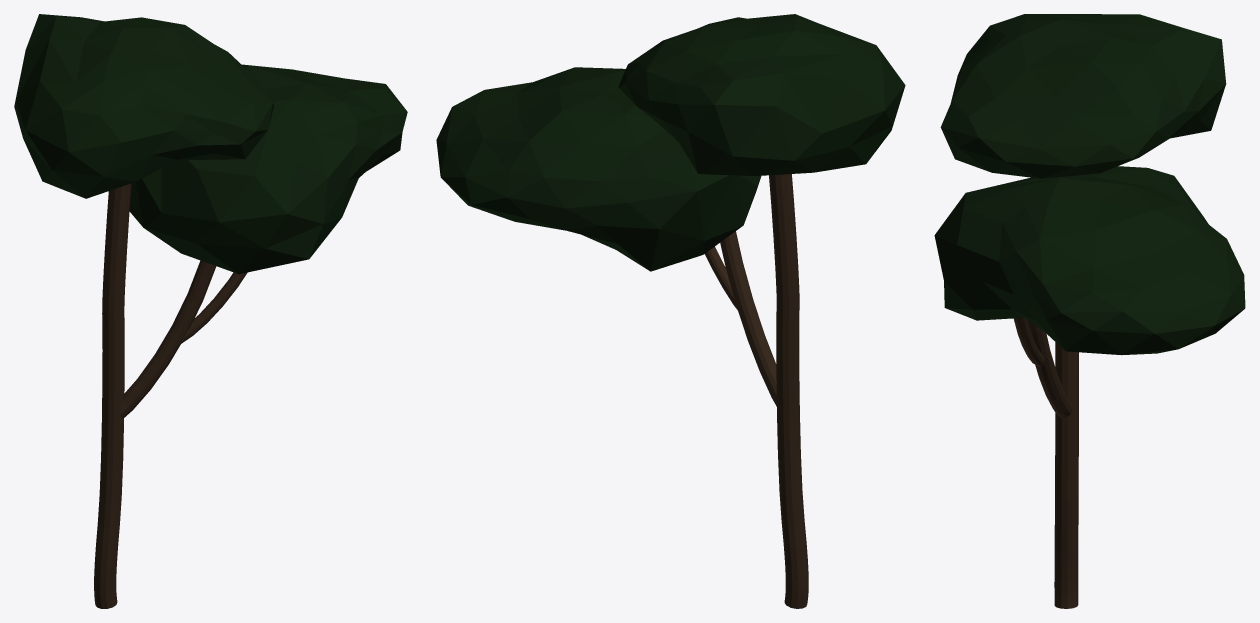
File: SM_light_tree_01.fbx
3 renders of one model, left to right at view 1: azimuth 30°, elevation 25°; view 2: azimuth 150°, elevation 25°; view 3: azimuth 270°, elevation 25°, orthographic. The views are drawn at different scales.
Parts seen in each view (by area): view 1: light_tree_01; view 2: light_tree_01; view 3: light_tree_01.
Part boxes in pixels (x1=…): light_tree_01: x1=14, y1=14, x2=407, y2=608; light_tree_01: x1=436, y1=14, x2=905, y2=608; light_tree_01: x1=934, y1=14, x2=1245, y2=608.
Bounding box in the file's own units: 45.52 × 61.32 × 29.35.
